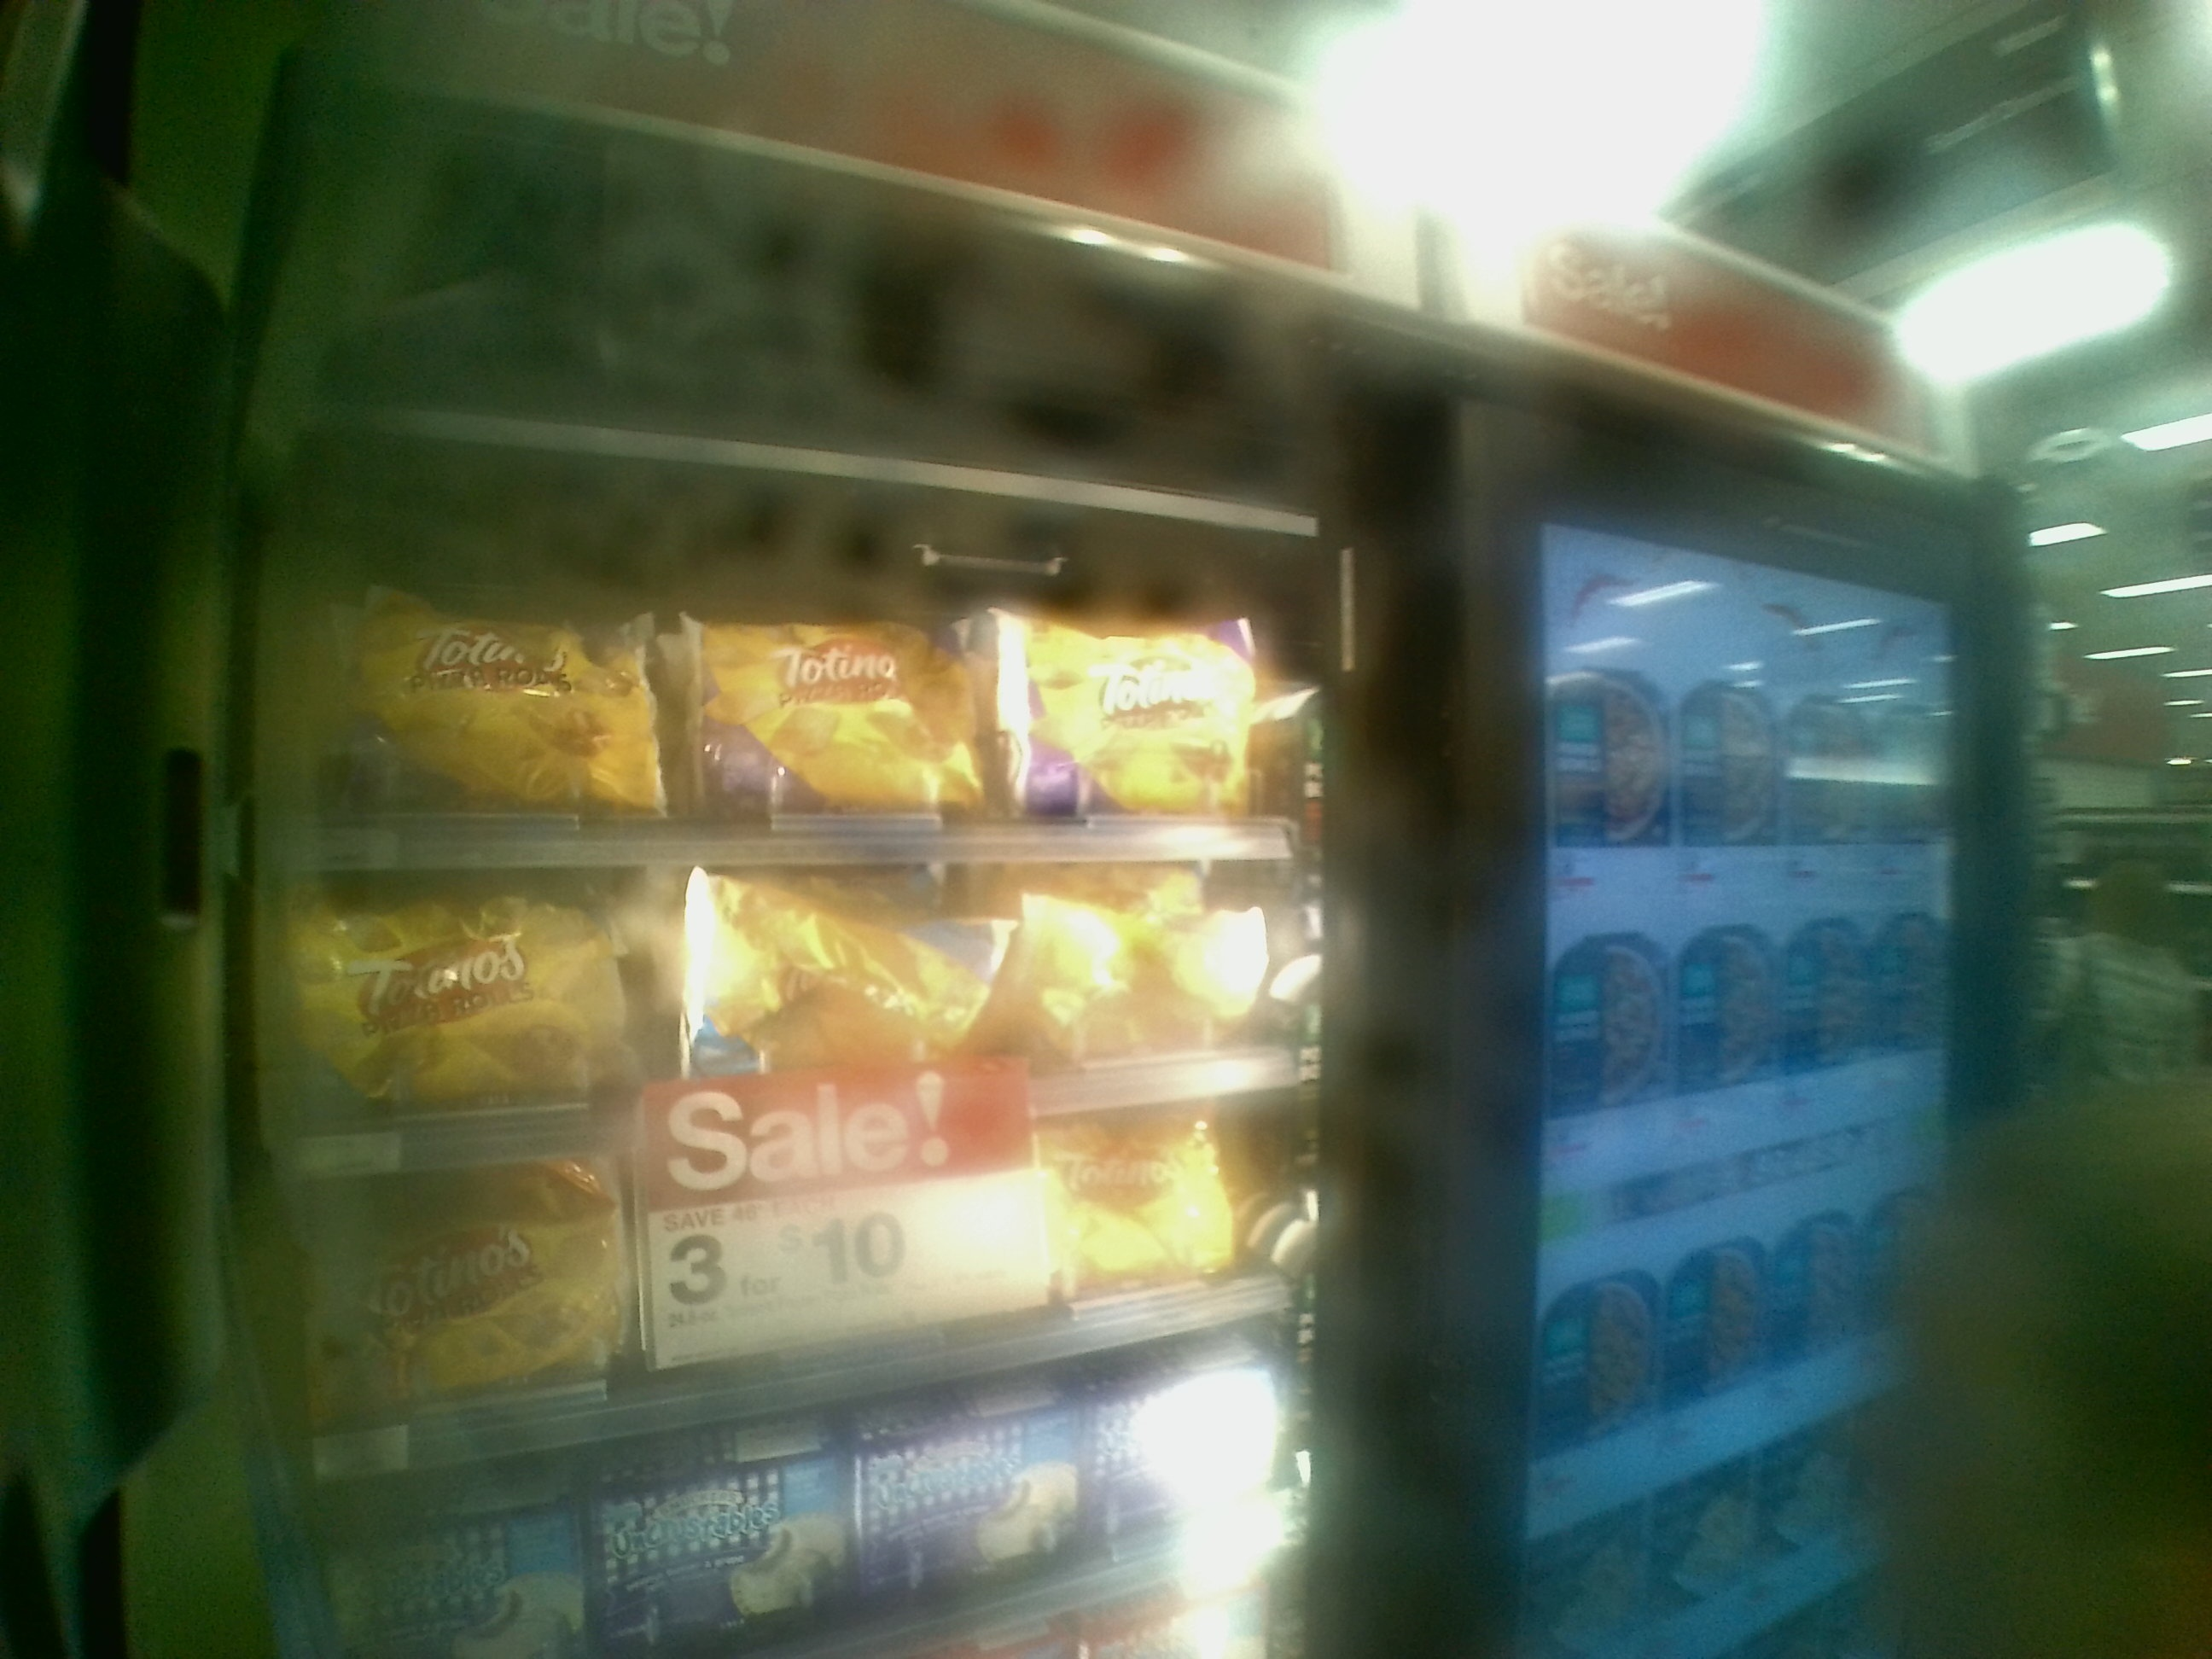shelf: (270, 528, 1299, 857), (272, 859, 1324, 1168)
